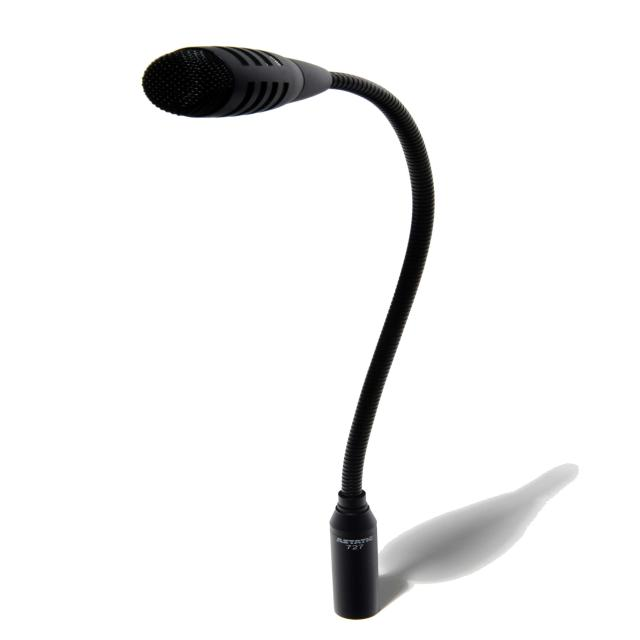microphone: (140, 45, 330, 119)
